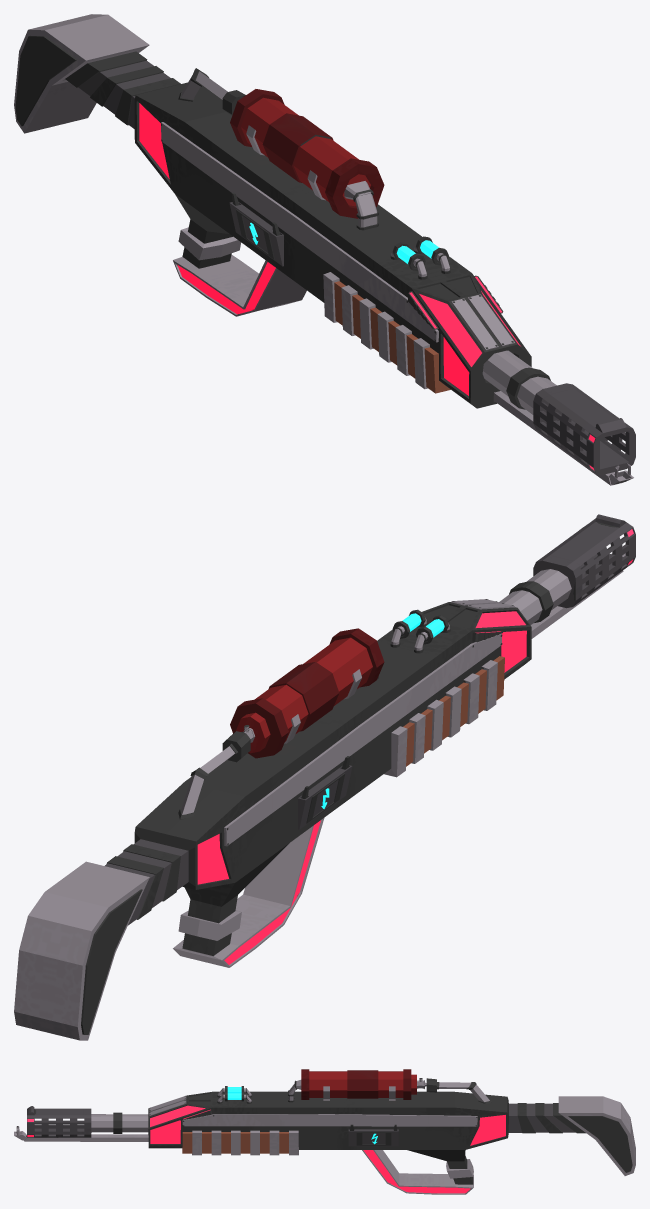
File: Nofti.fbx
3 views of the same model, one above another, from view 1: azimuth 30°, elevation 25°; view 2: azimuth 150°, elevation 25°; view 3: azimuth 270°, elevation 25° (orthographic). The views are drawn at different scales.
Visible parts, largest first — view 1: Cube.001; view 2: Cube.001; view 3: Cube.001.
Boxes of the visible parts, x1,y1,x2,y2 form: Cube.001: (14,14,635,485); Cube.001: (14,514,635,1040); Cube.001: (14,1069,635,1194).
Size of the model in its own units: 0.1728 by 0.4738 by 2.26.
1 material, 1 textured.
